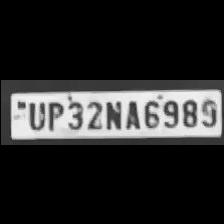2: (83, 97, 103, 129)
3: (63, 97, 83, 129)
6: (140, 96, 158, 128)
8: (179, 96, 199, 128)
9: (160, 96, 180, 128), (198, 96, 218, 127)
A: (122, 97, 140, 129)
N: (104, 97, 122, 129)
P: (43, 98, 62, 130)
U: (23, 98, 44, 130)
